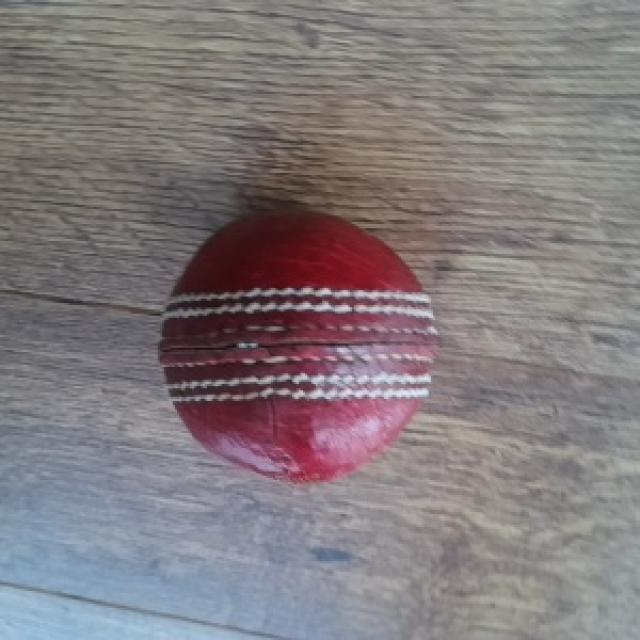ball: (150, 199, 446, 482)
